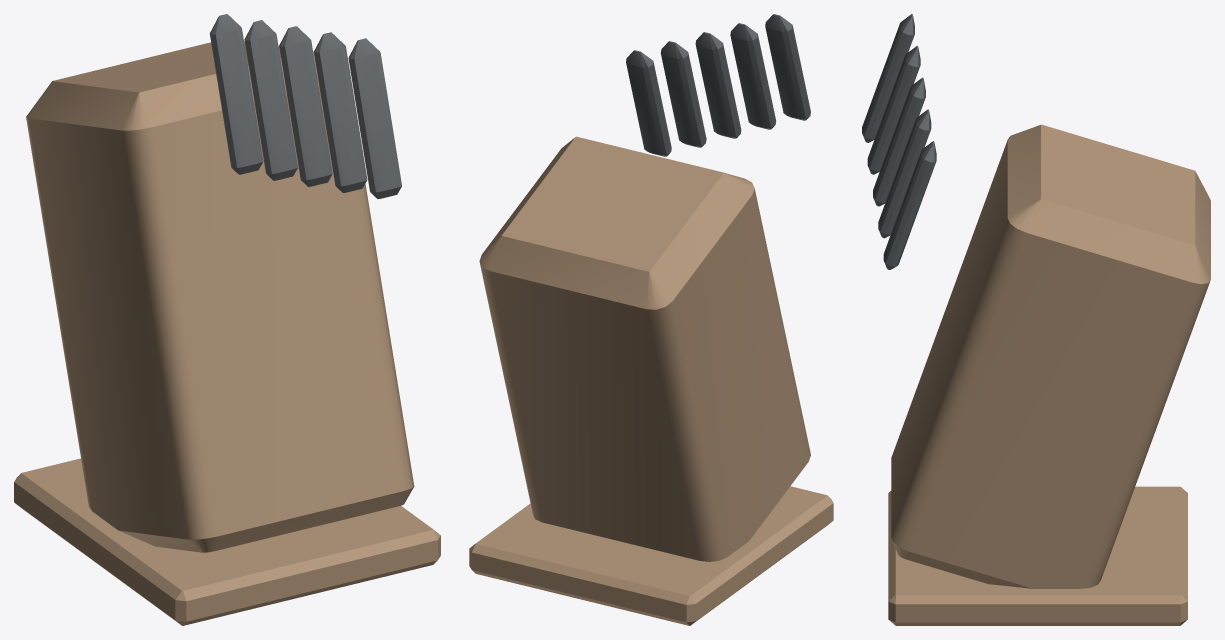
Rendered from restaurant-kitchen-and-dining-knife-block-c091e4f4__16443.glb.
3 views of the same model, side by side, from view 1: azimuth 30°, elevation 25°; view 2: azimuth 150°, elevation 25°; view 3: azimuth 270°, elevation 25° (orthographic). The views are drawn at different scales.
Parts seen in each view (by area): view 1: knife-block; view 2: knife-block; view 3: knife-block.
Part boxes in pixels (left/top/right/bottom): knife-block: left=14, top=14, right=440, bottom=625; knife-block: left=469, top=14, right=833, bottom=625; knife-block: left=862, top=14, right=1210, bottom=625.
Size of the model in its own units: 0.19 by 0.4051 by 0.2445.
